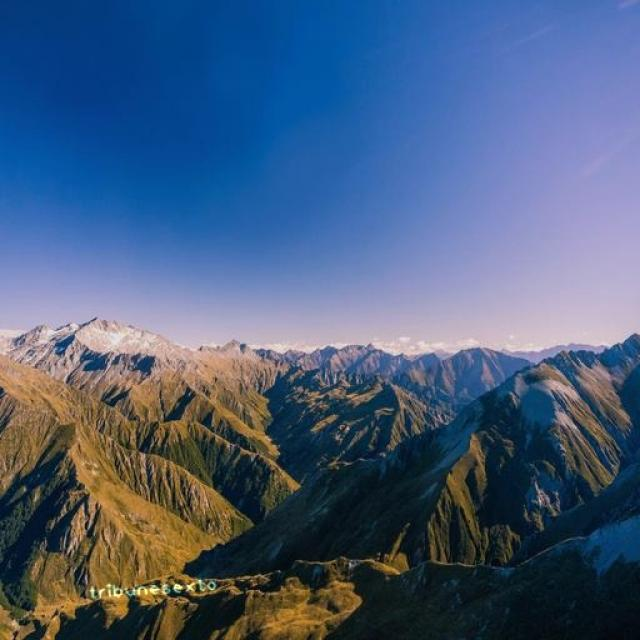watermark: (83, 576, 217, 601)
